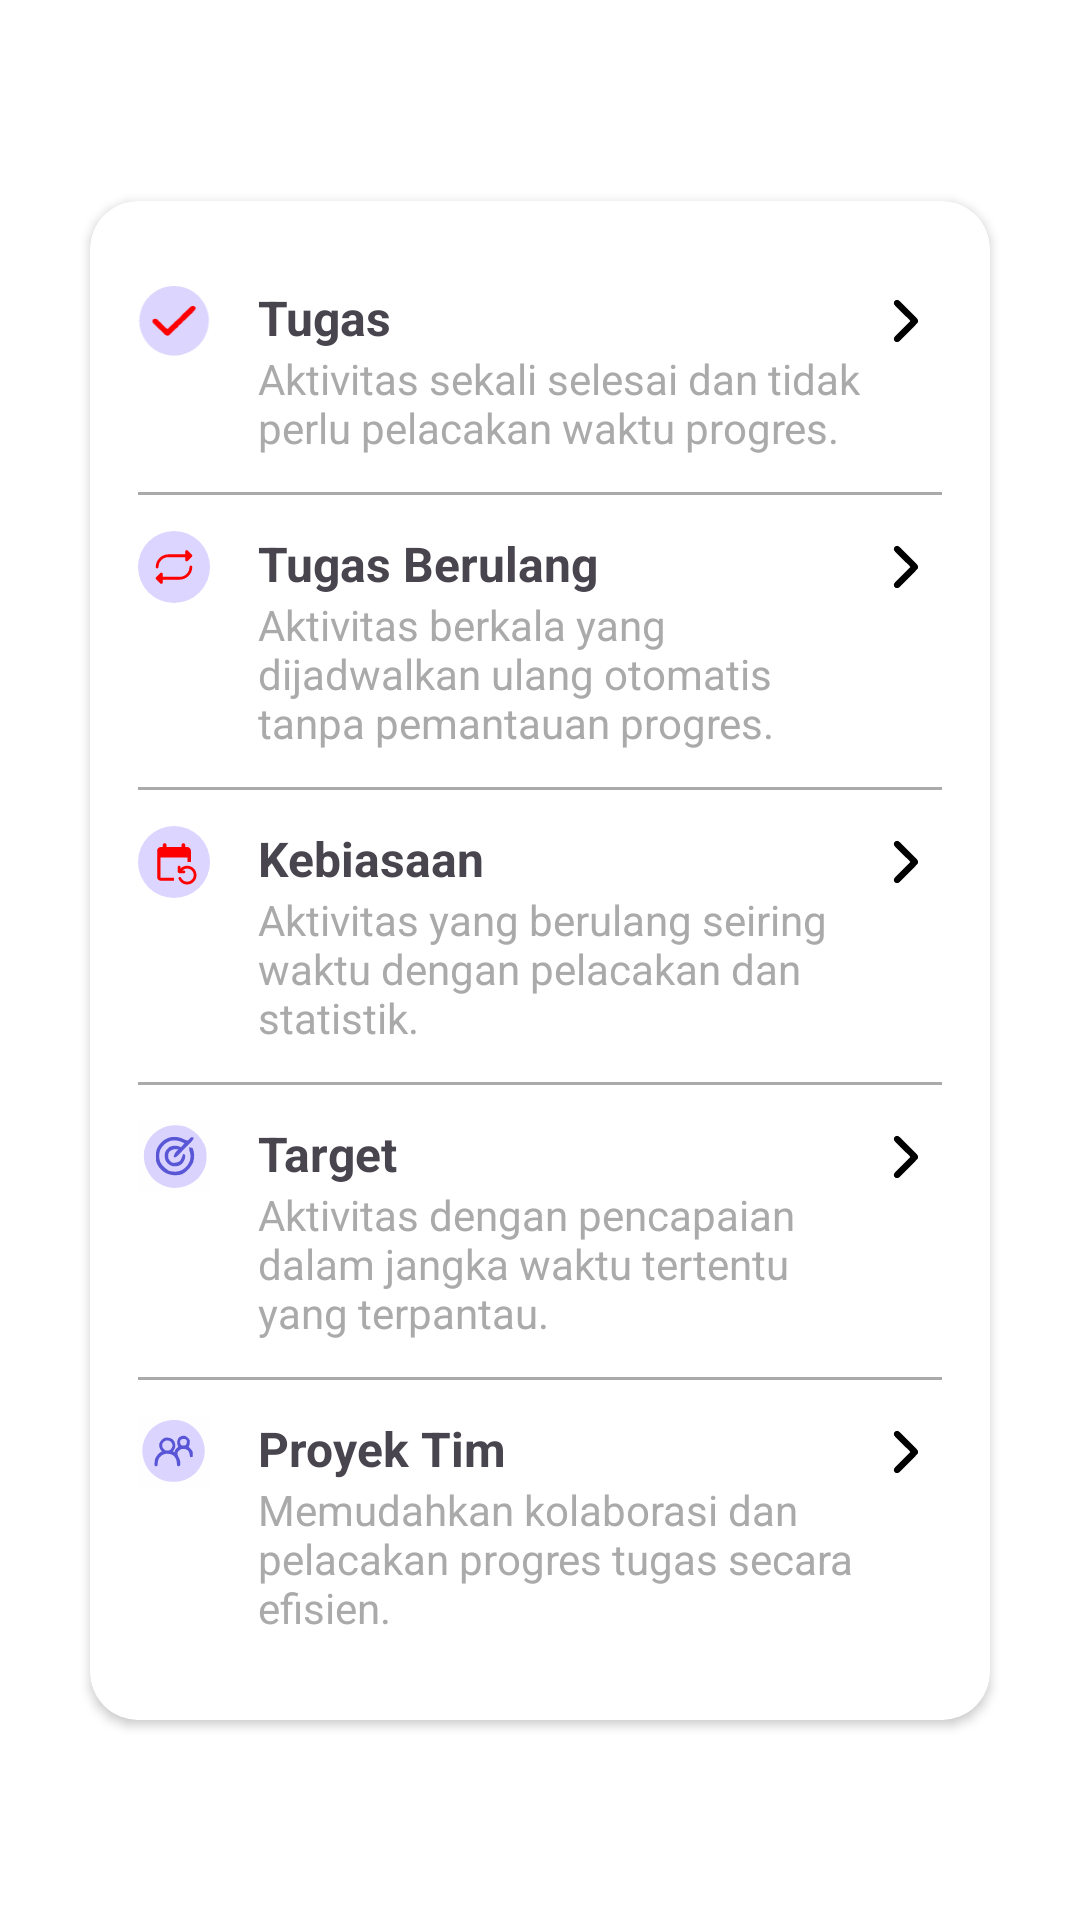

Icons on this 1080 x 1920 Android screen, each with the point to tap as [x,y]:
arrow right: [906,321], [906,567], [906,862], [906,1157], [906,1452]
